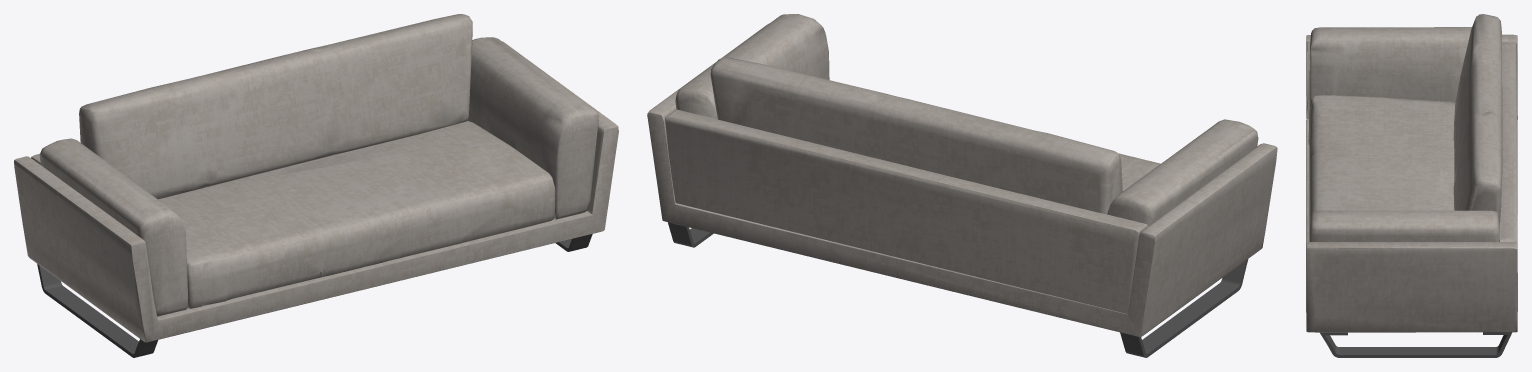
File: Couch.FBX
3 renders of one model, left to right at view 1: azimuth 30°, elevation 25°; view 2: azimuth 150°, elevation 25°; view 3: azimuth 270°, elevation 25°, orthographic. The views are drawn at different scales.
Parts seen in each view (by area): view 1: couch; view 2: couch; view 3: couch.
Boxes of the visible parts, x1,y1,x2,y2 form: couch: (14, 14, 618, 357); couch: (647, 14, 1277, 357); couch: (1306, 14, 1517, 357).
Bounding box in the file's own units: 220 × 78.66 × 92.
Materials: 2 (1 with a texture image).
